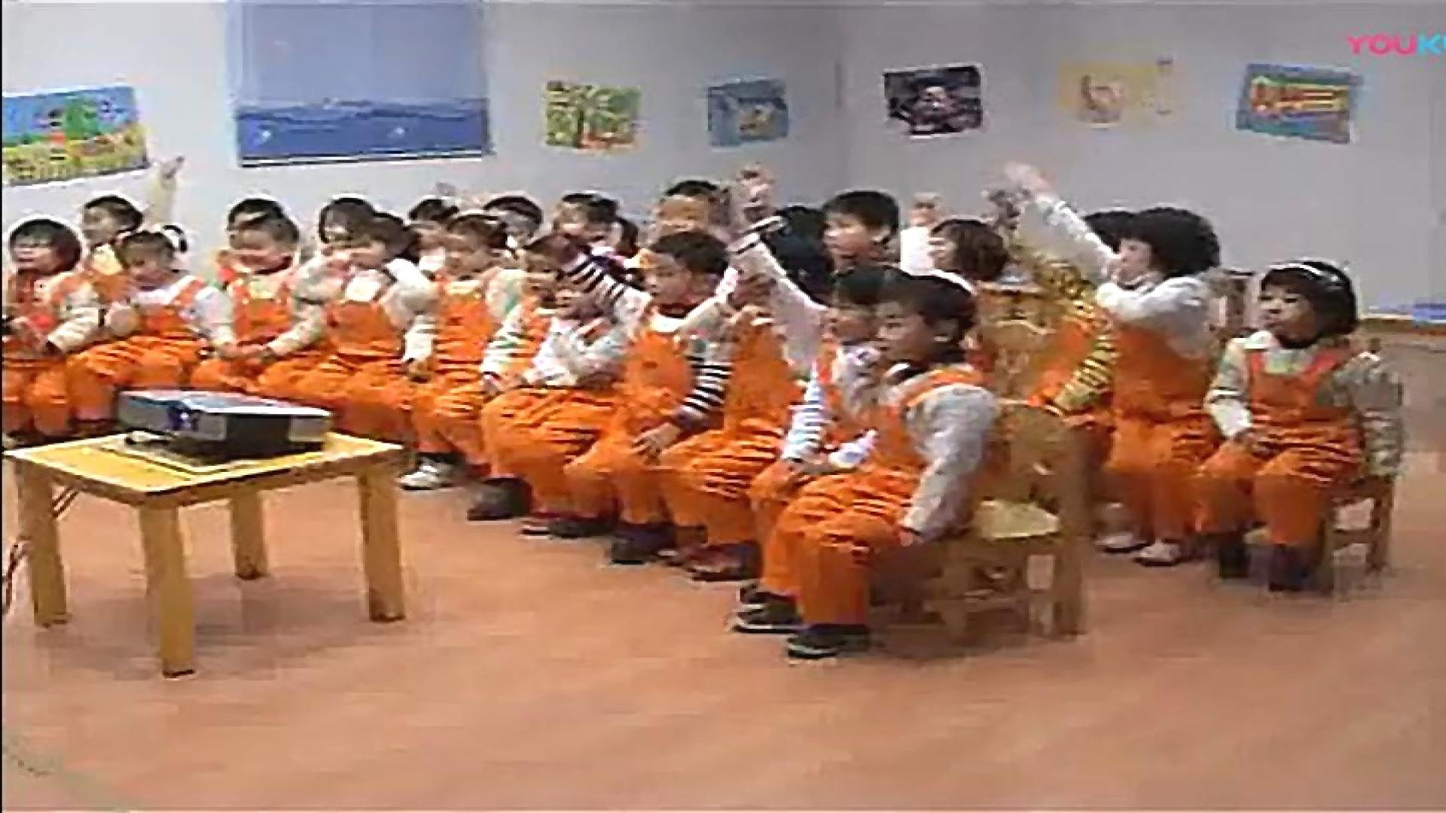Wave: (724, 202, 824, 335), (1020, 179, 1113, 267), (132, 147, 186, 222)
